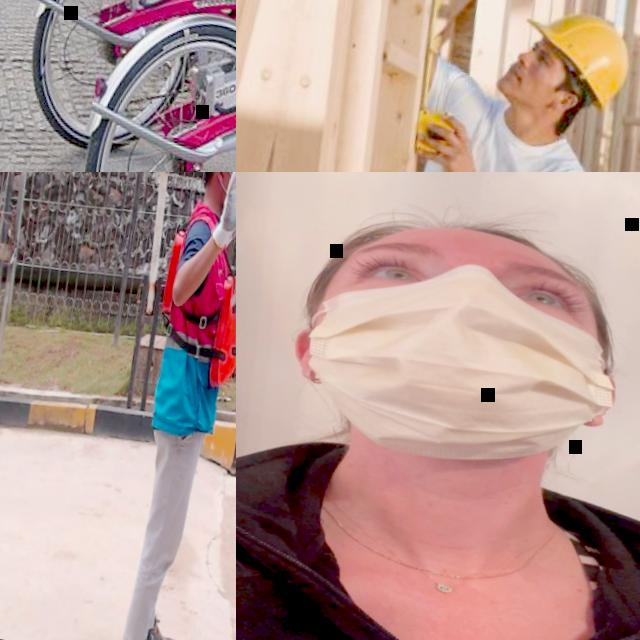Hardhat: (509, 1, 639, 119)
Mask: (266, 235, 626, 490), (215, 172, 236, 203)
NO-Hardhat: (337, 201, 601, 286)
NO-Mask: (489, 57, 550, 108)
NO-Safety Vest: (236, 427, 640, 640), (376, 56, 587, 172)
Person: (236, 172, 640, 640), (85, 172, 236, 640), (340, 0, 640, 172)
Safety Vest: (143, 226, 236, 393)
